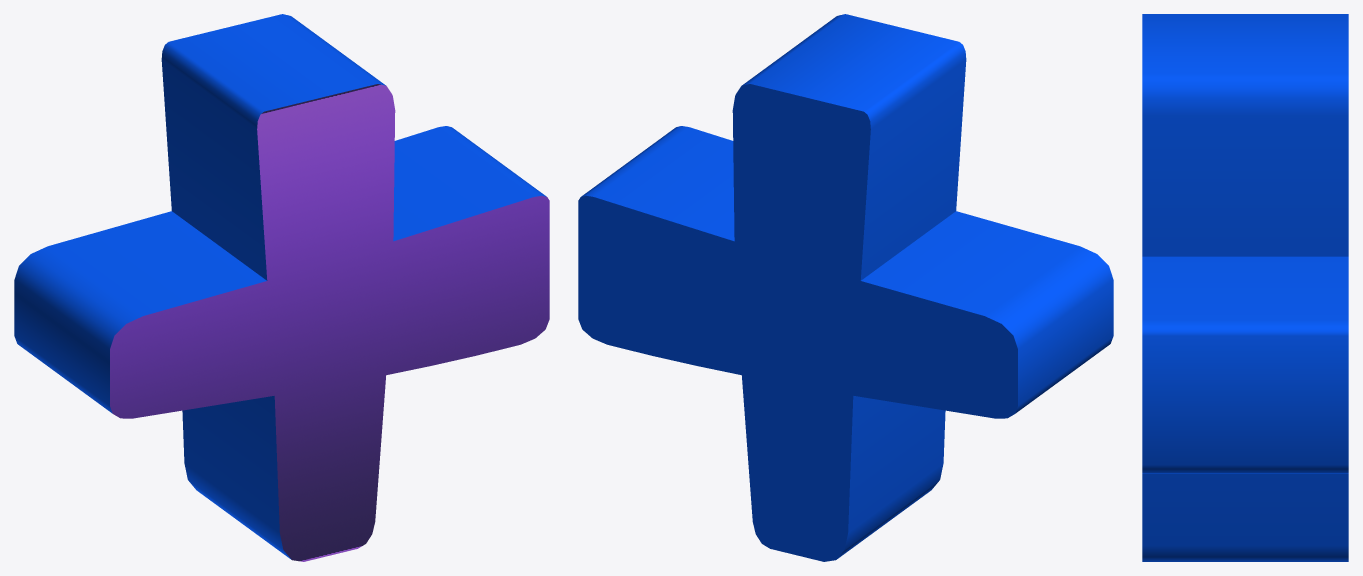
The model's file is Plus.FBX.
3 views of the same model, side by side, from view 1: azimuth 30°, elevation 25°; view 2: azimuth 150°, elevation 25°; view 3: azimuth 270°, elevation 25° (orthographic). The views are drawn at different scales.
Visible parts, largest first — view 1: Plus; view 2: Plus; view 3: Plus.
Part boxes in pixels (bbox=[...]): Plus: bbox=[14, 14, 549, 561]; Plus: bbox=[578, 14, 1113, 561]; Plus: bbox=[1142, 14, 1348, 561].
Size of the model in its own units: 52.88 by 52.88 by 19.88.
Materials: 2 (1 with a texture image).
